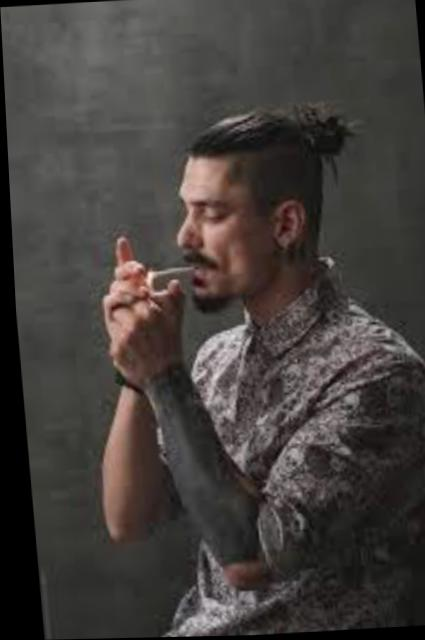fire: (136, 263, 149, 290)
